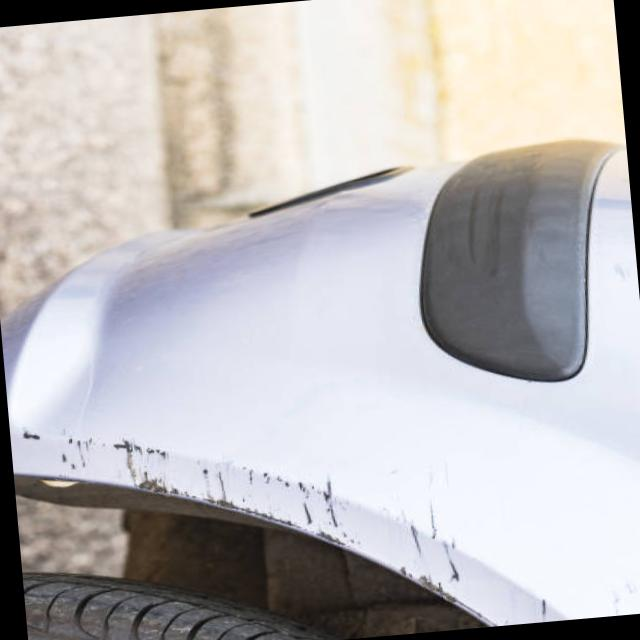Scratch: (9, 422, 565, 626)
